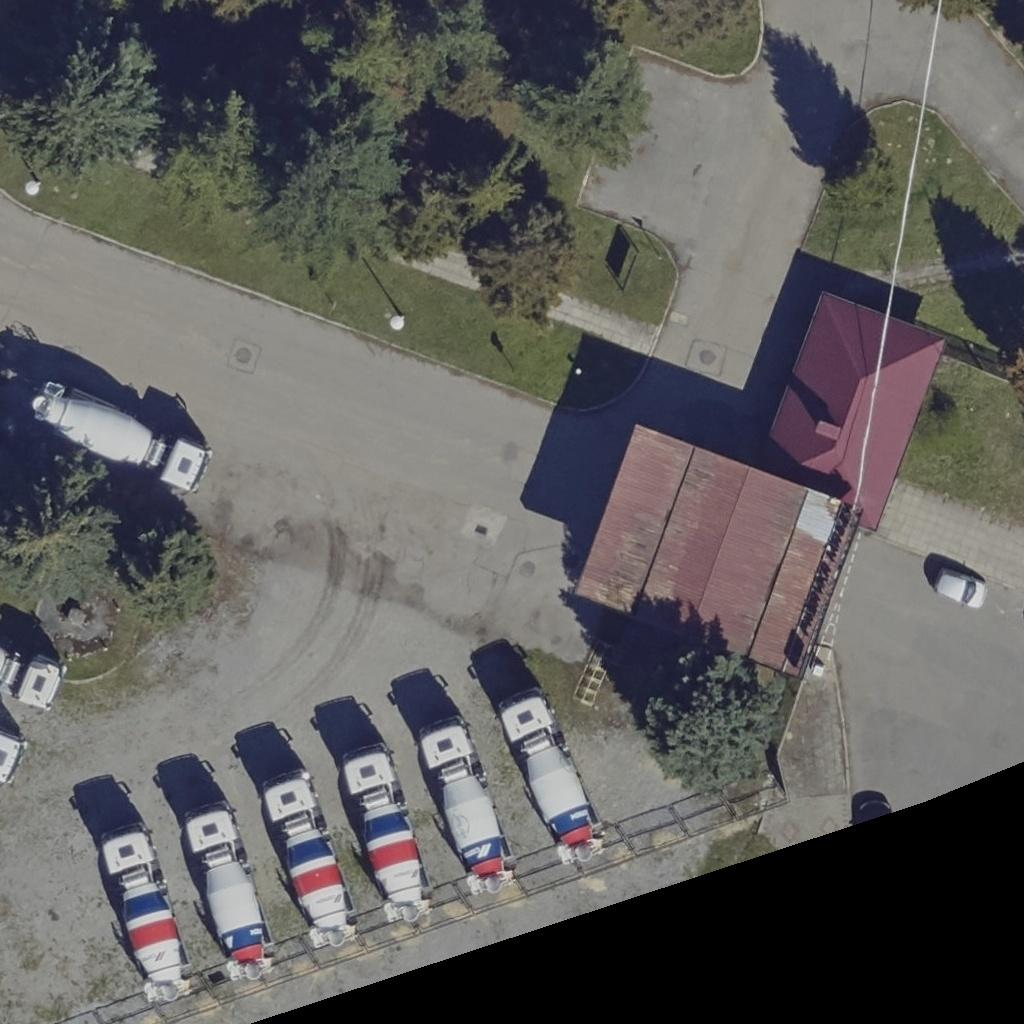betoniarka: (33, 382, 208, 493), (497, 687, 602, 862), (99, 800, 190, 1001), (179, 789, 271, 979), (419, 716, 511, 892), (262, 770, 354, 946), (341, 742, 430, 922)
samochod_osobowy: (934, 568, 986, 608)
